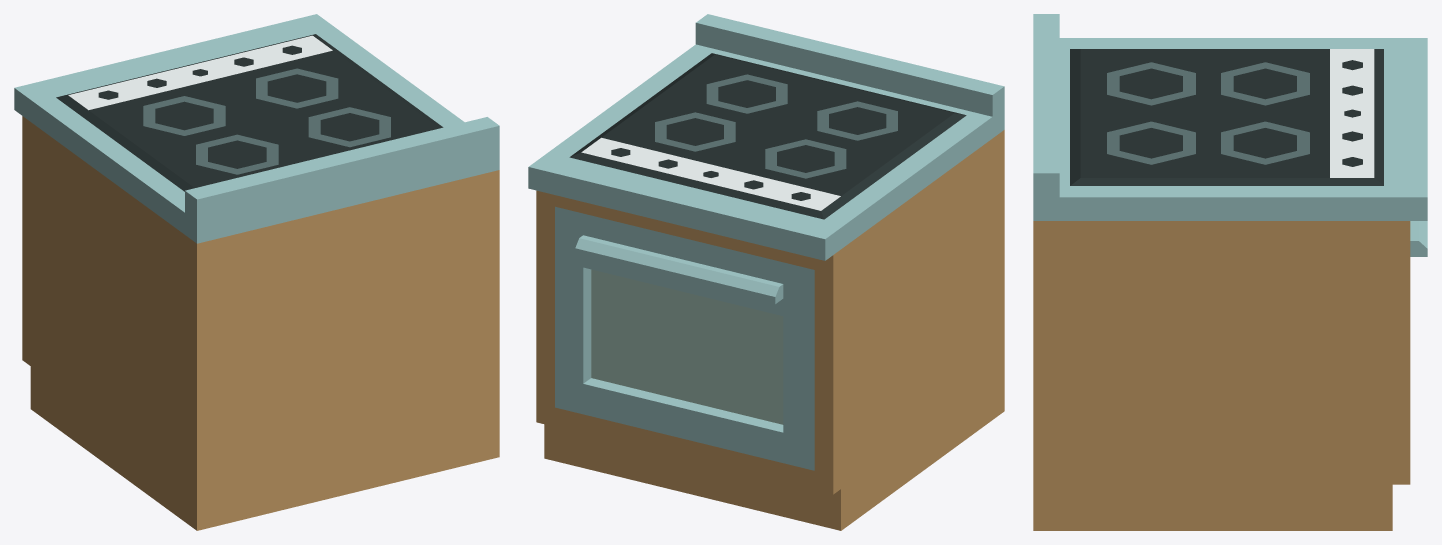
The model's file is kitchenStoveElectric.glb.
The picture shows the model from 3 angles, left to right: view 1: azimuth 30°, elevation 25°; view 2: azimuth 150°, elevation 25°; view 3: azimuth 270°, elevation 25°; orthographic projection. The views are drawn at different scales.
Size of the model in its own units: 4.3 by 4.5 by 4.5.
